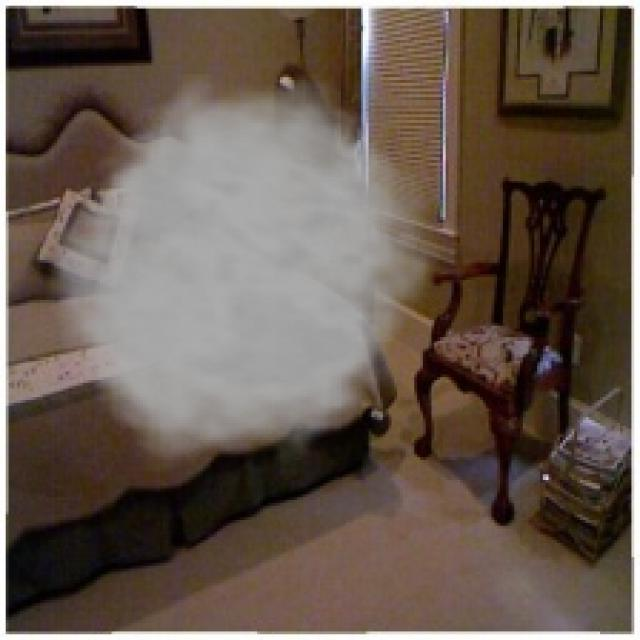smoke: (37, 74, 452, 477)
